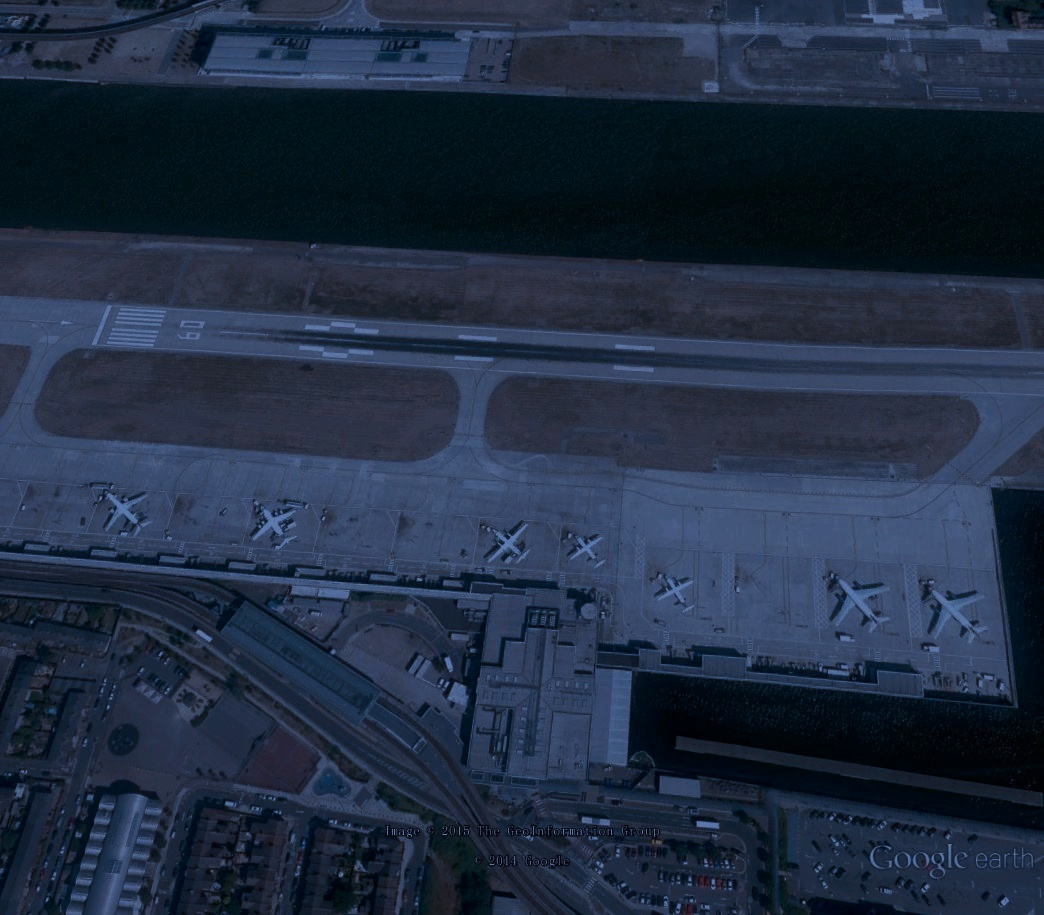aircraft: (924, 577, 994, 646), (828, 573, 898, 636), (102, 486, 157, 540), (249, 501, 303, 553), (480, 519, 535, 568), (652, 568, 697, 613), (565, 531, 610, 574)
